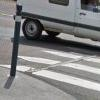crosswalks: (17, 49, 96, 100)
